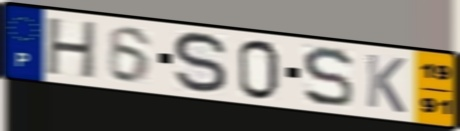0: (236, 38, 284, 102)
6: (105, 25, 155, 85)
H: (44, 16, 100, 82)
K: (363, 51, 408, 116)
S: (170, 30, 230, 96), (300, 45, 356, 110)
